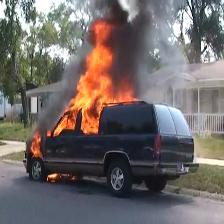fire: (80, 25, 112, 130), (65, 104, 79, 130)
smoke: (120, 9, 147, 76)
